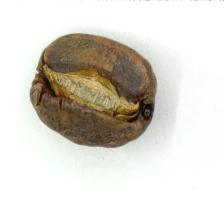NG: (46, 48, 152, 133)
